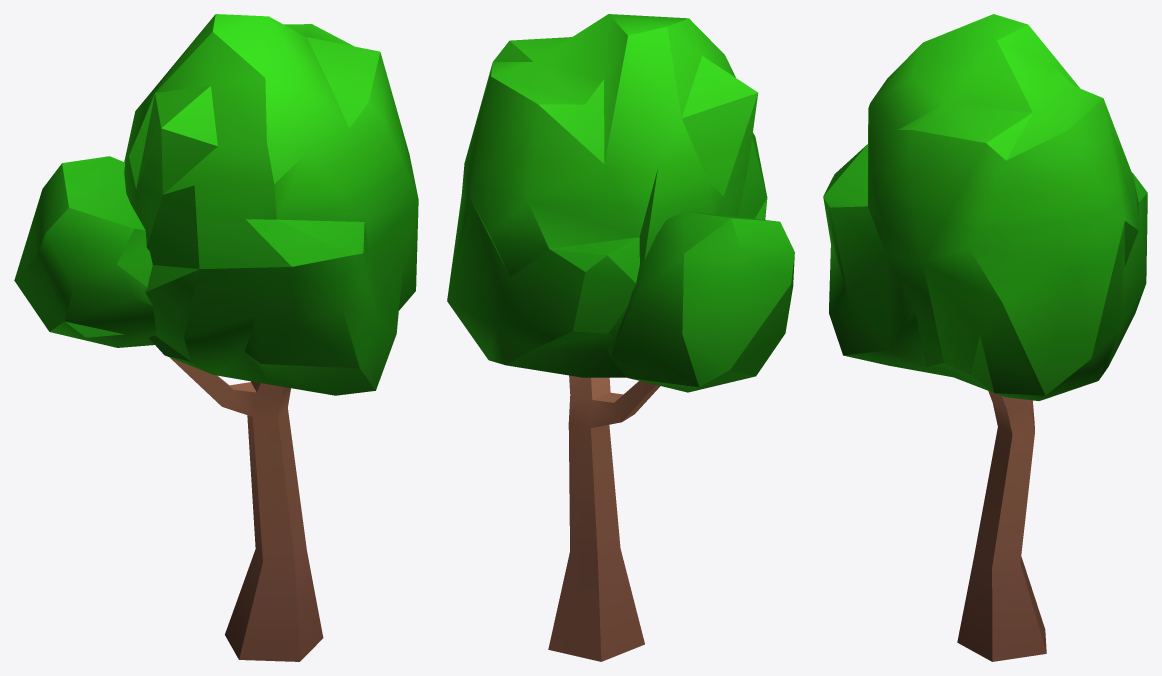
The model's file is Tree1.glb.
3 views of the same model, side by side, from view 1: azimuth 30°, elevation 25°; view 2: azimuth 150°, elevation 25°; view 3: azimuth 270°, elevation 25° (orthographic). The views are drawn at different scales.
Visible parts, largest first — view 1: Tree.007; view 2: Tree.007; view 3: Tree.007.
Part boxes in pixels (bbox=[...]): Tree.007: bbox=[14, 14, 418, 661]; Tree.007: bbox=[447, 14, 794, 661]; Tree.007: bbox=[823, 14, 1147, 661].
Bounding box in the file's own units: 11.09 × 19.23 × 9.47.
Materials: 1 (1 with a texture image).
